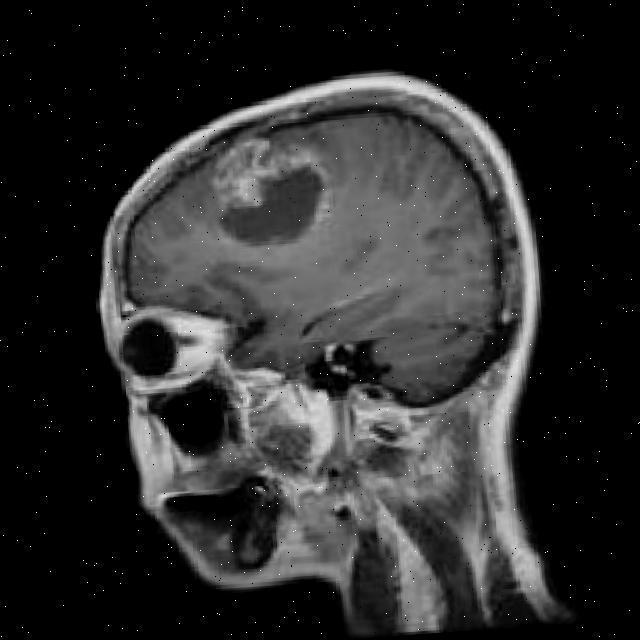MCI: (210, 144, 310, 255)
